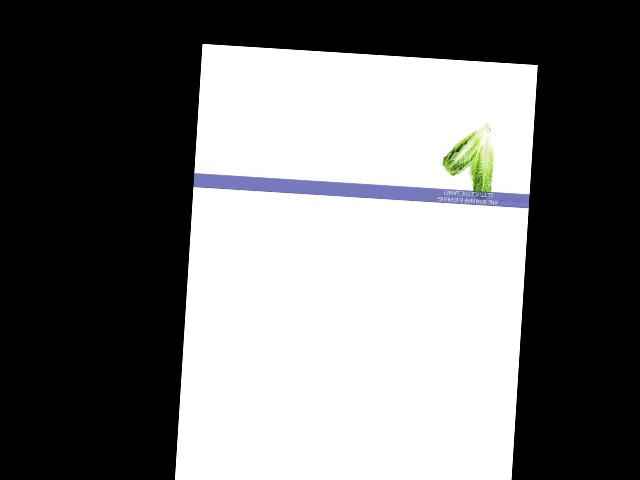lettuce: (442, 121, 493, 182)
